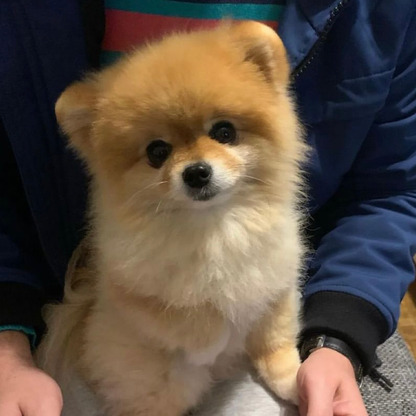Pomeranian: (47, 23, 307, 387)
